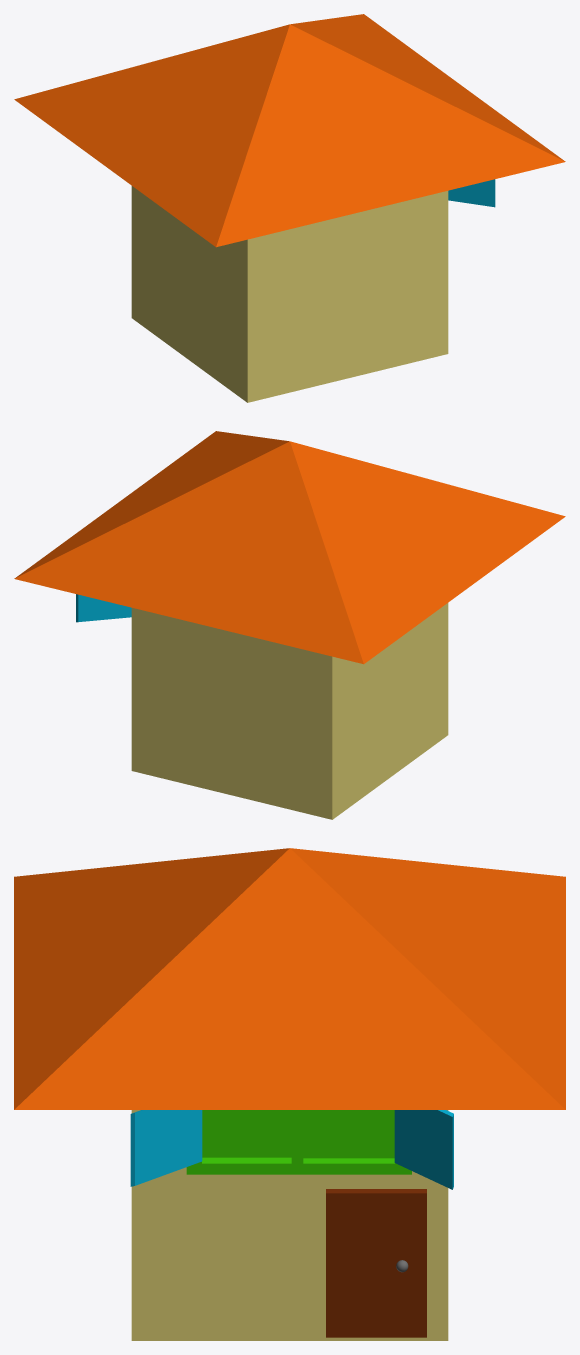
Rendered from house.fbx.
3 views of the same model, one above another, from view 1: azimuth 30°, elevation 25°; view 2: azimuth 150°, elevation 25°; view 3: azimuth 270°, elevation 25° (orthographic). The views are drawn at different scales.
Visible parts, largest first — view 1: pPyramid2, pCube2, pCube5; view 2: pPyramid2, pCube2, pCube6; view 3: pPyramid2, pCube2, pCube7, pCube4, pCube5, pCube6.
Part boxes in pixels (x1,y1,x2,y2): pPyramid2: (14,14,565,247); pCube2: (131,186,448,402); pCube5: (448,179,495,207); pPyramid2: (14,431,565,664); pCube2: (131,603,448,819); pCube6: (76,594,131,622); pPyramid2: (14,848,565,1109); pCube2: (131,1110,448,1340); pCube7: (326,1189,426,1337); pCube4: (186,1110,411,1174); pCube5: (130,1110,202,1186); pCube6: (394,1110,453,1189).
Size of the model in its own units: 1.74 by 1.48 by 1.74.
